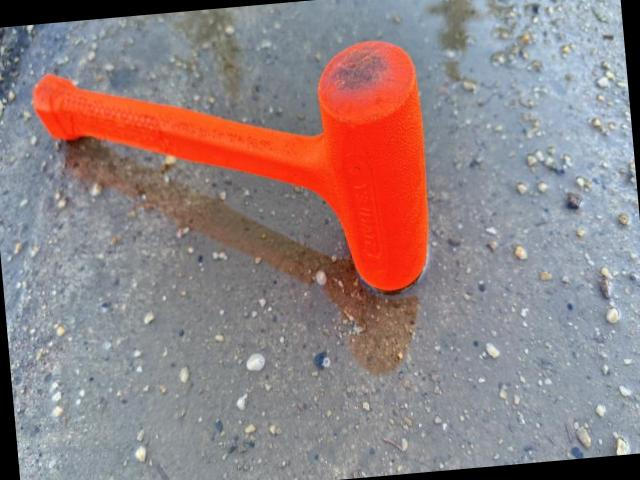hammer: (31, 36, 438, 320)
